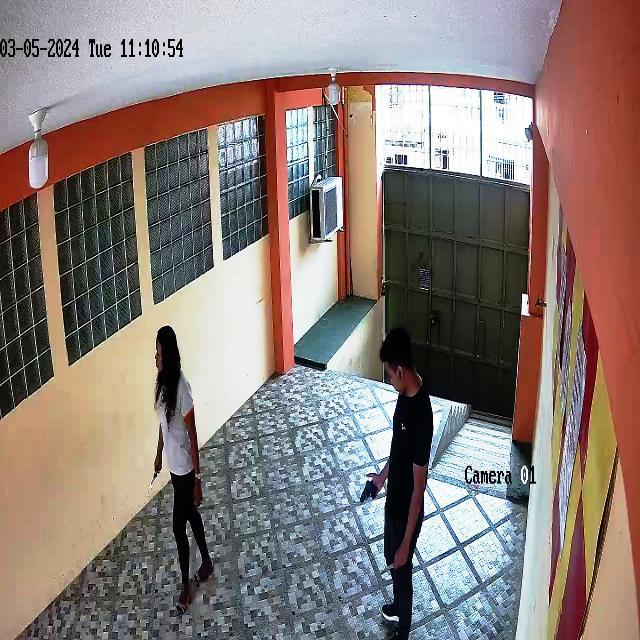Gun: (353, 472, 388, 511)
Knife: (146, 467, 172, 495)
